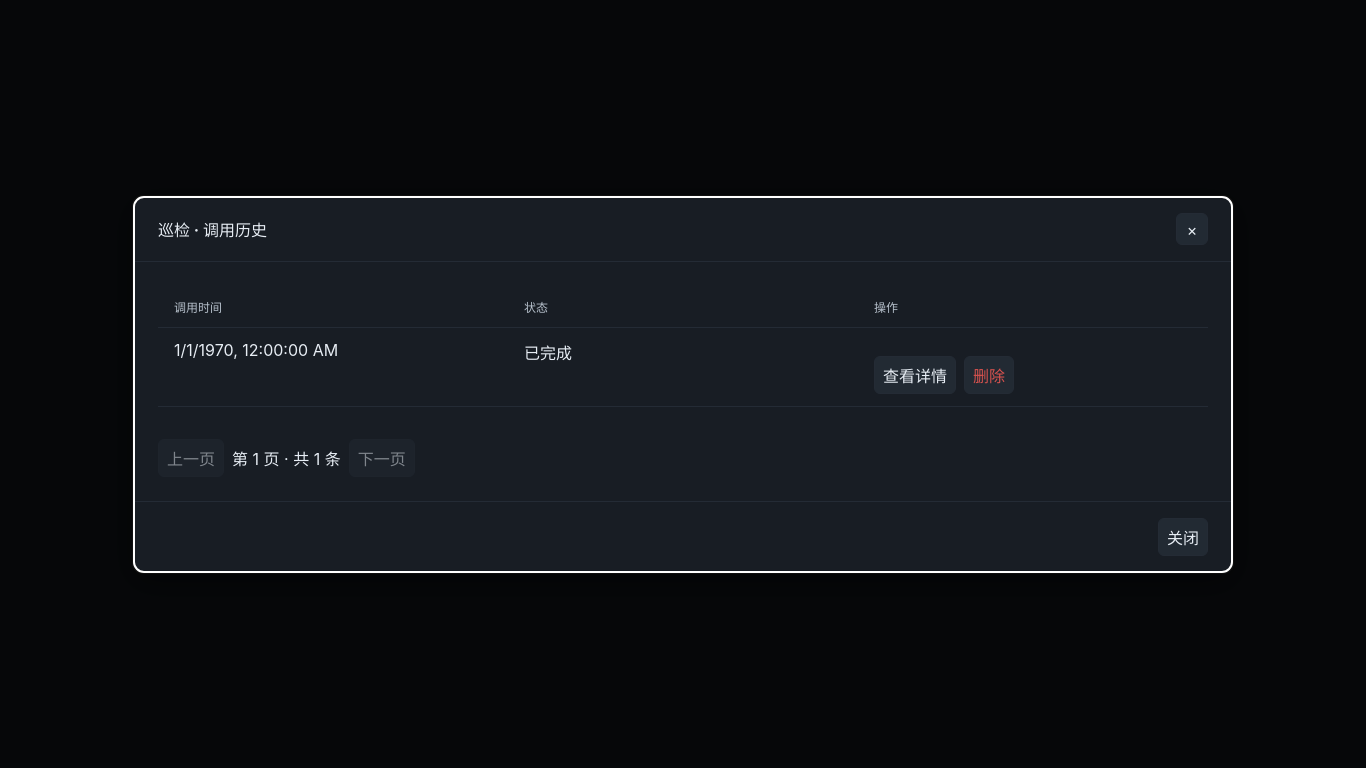
Scenario: keeps records and displays deletion errors
Click the button "删除" at coordinates (989, 374), box x1=964 y1=356 x2=1014 y2=394
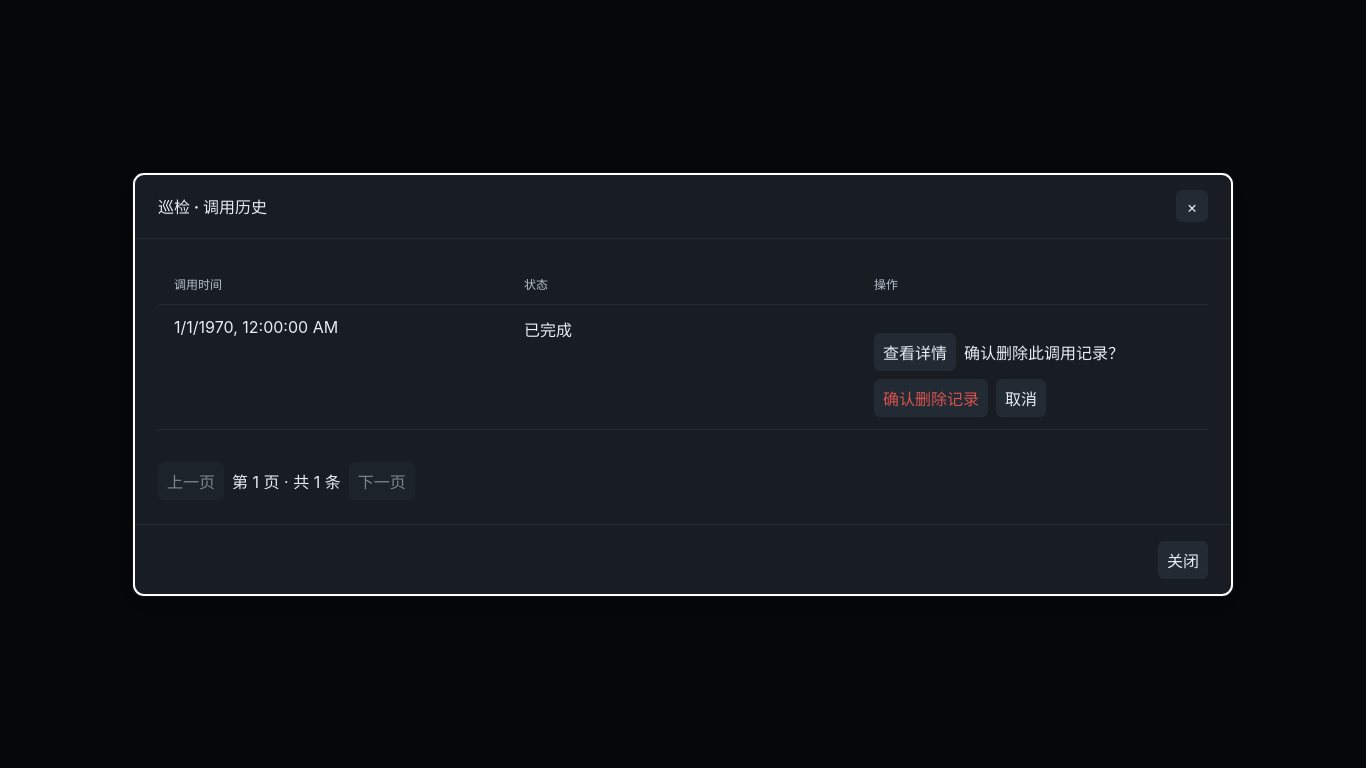
Click the button "确认删除记录" at coordinates (931, 398), box x1=874 y1=378 x2=988 y2=416
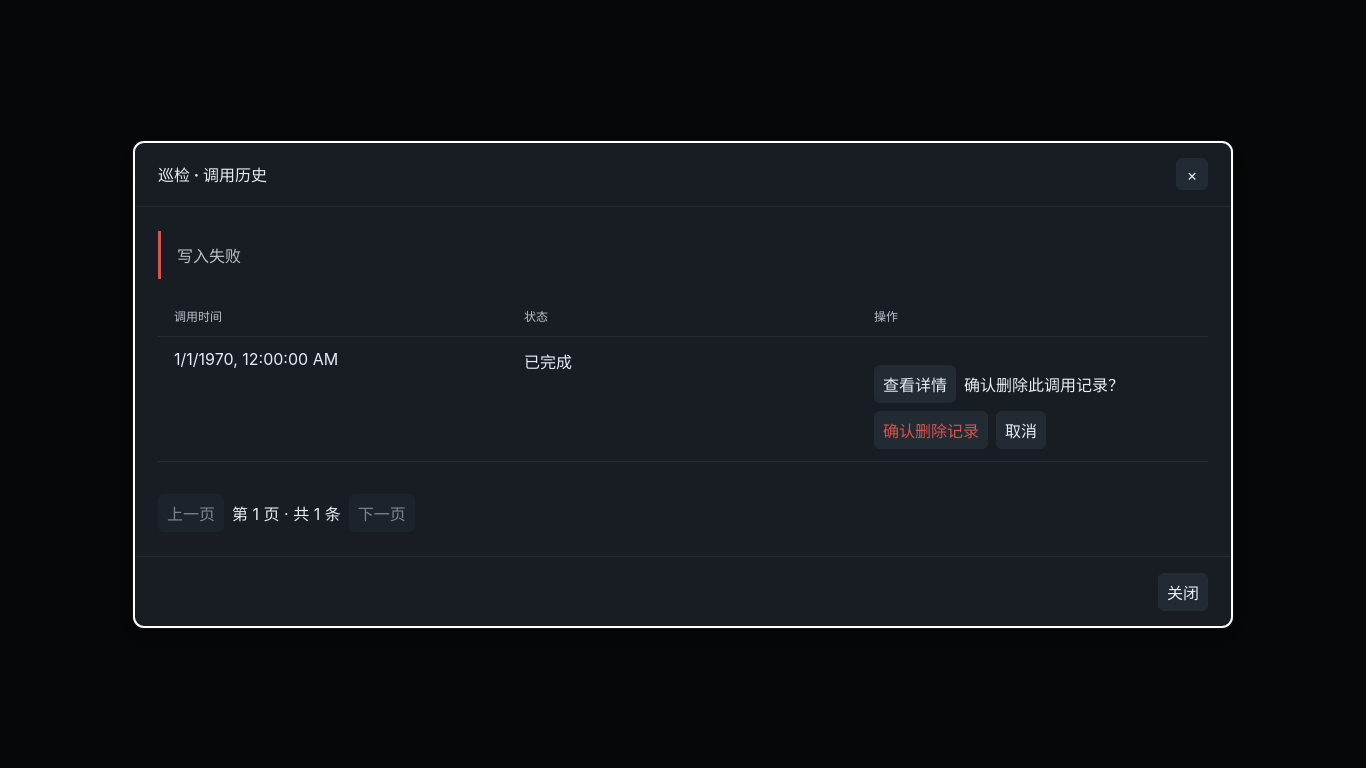
Expected: the button "查看详情" is shown, x1=874 y1=364 x2=956 y2=402
Now the message reads "写入失败", box x1=177 y1=246 x2=241 y2=266
